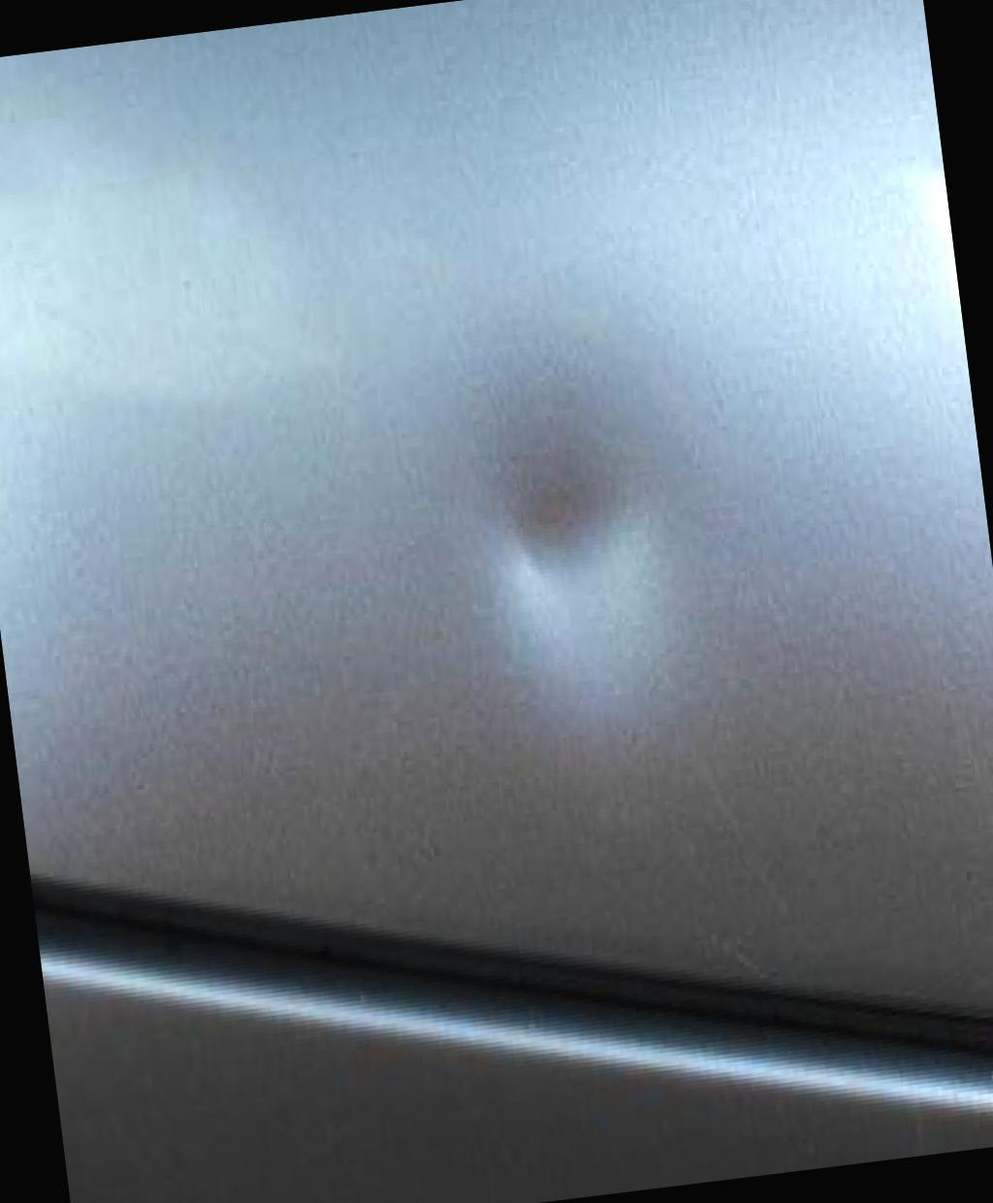dent: (479, 431, 651, 689)
